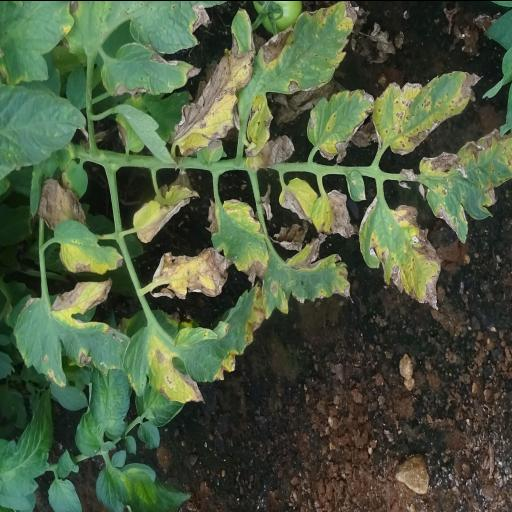disease_tomato: (122, 306, 258, 402), (14, 276, 134, 382), (421, 129, 512, 245), (370, 66, 482, 154), (168, 40, 254, 154), (257, 0, 359, 95), (357, 201, 443, 310), (261, 232, 353, 324), (124, 0, 254, 54), (102, 42, 203, 100), (206, 196, 270, 284), (276, 173, 356, 241), (150, 241, 232, 303), (306, 85, 374, 159), (54, 216, 124, 277)
